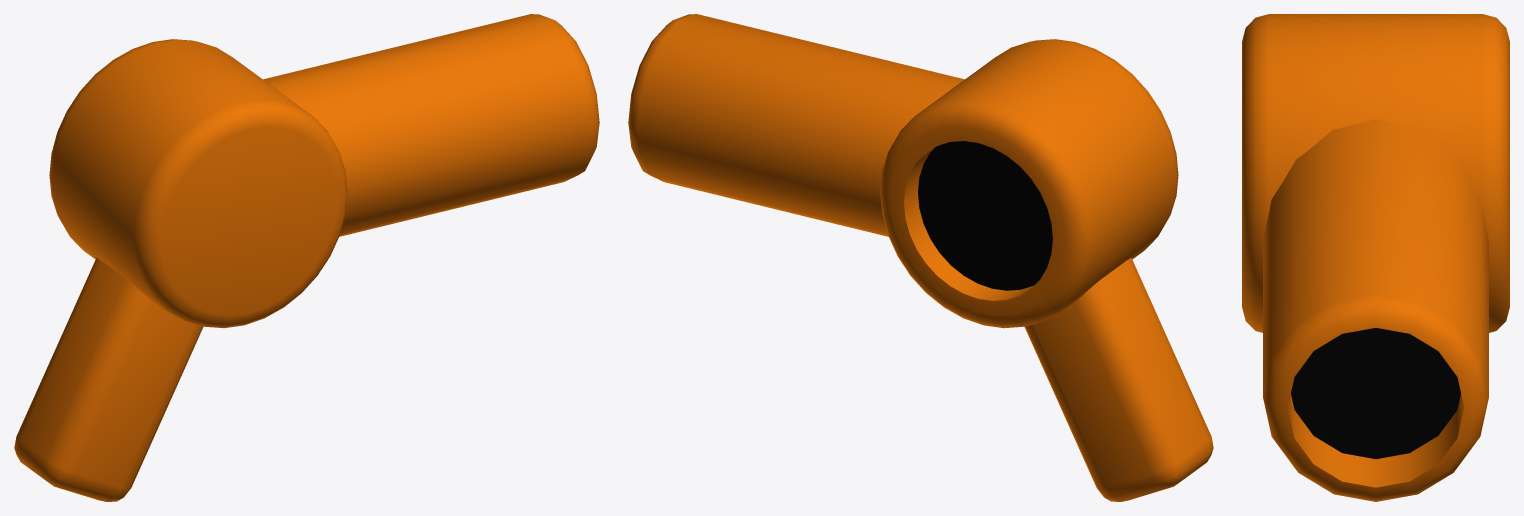
File: hair_dryer.glb
3 views of the same model, side by side, from view 1: azimuth 30°, elevation 25°; view 2: azimuth 150°, elevation 25°; view 3: azimuth 270°, elevation 25° (orthographic). The views are drawn at different scales.
Visible parts, largest first — view 1: HairDryer; view 2: HairDryer; view 3: HairDryer.
Part boxes in pixels (bbox=[...]): HairDryer: bbox=[14, 14, 599, 501]; HairDryer: bbox=[628, 14, 1213, 501]; HairDryer: bbox=[1242, 14, 1509, 501].
Bounding box in the file's own units: 0.3432 × 0.2419 × 0.1136.
